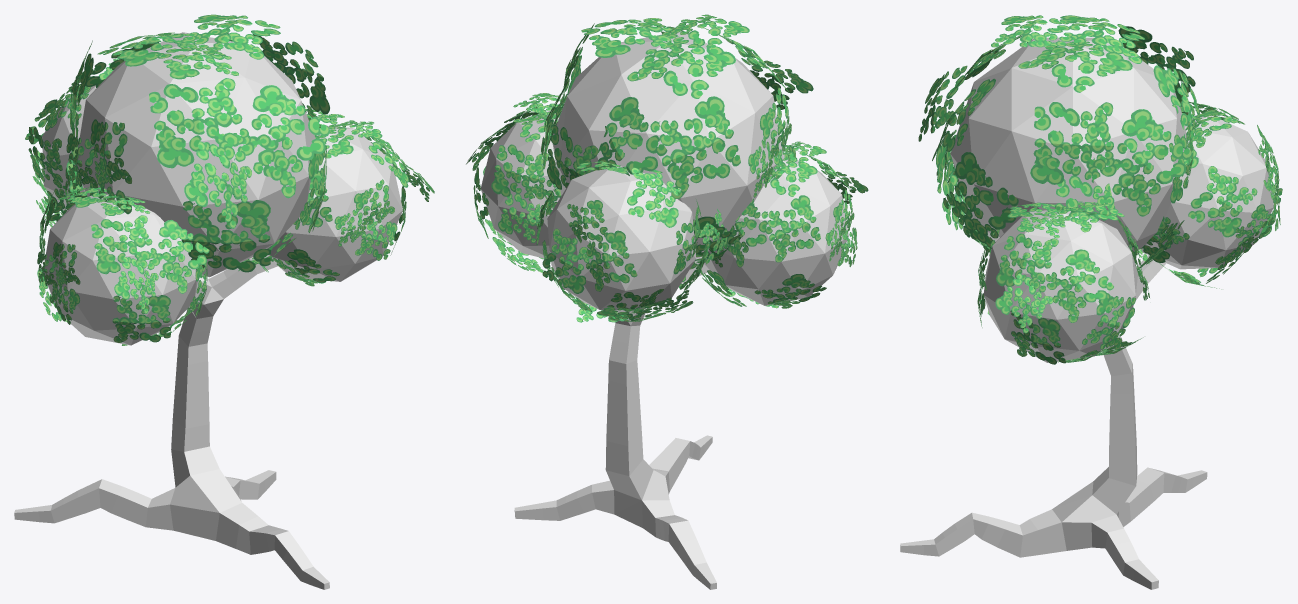
The model's file is tree#1.fbx.
3 renders of one model, left to right at view 1: azimuth 30°, elevation 25°; view 2: azimuth 150°, elevation 25°; view 3: azimuth 270°, elevation 25°, orthographic. The views are drawn at different scales.
Visible parts, largest first — view 1: leaves.050, Icosphere.003, Cube, Icosphere.004, Icosphere.005, Icosphere.006; view 2: leaves.050, Icosphere.003, Cube, Icosphere.006, Icosphere.004, Icosphere.005; view 3: leaves.050, Icosphere.003, Cube, Icosphere.005, Icosphere.006.
Part boxes in pixels (x1=…): leaves.050: x1=25, y1=14, x2=434, y2=345; Icosphere.003: x1=75, y1=32, x2=315, y2=277; Cube: x1=14, y1=256, x2=329, y2=589; Icosphere.004: x1=43, y1=194, x2=197, y2=345; Icosphere.005: x1=267, y1=125, x2=402, y2=281; Icosphere.006: x1=42, y1=85, x2=96, y2=210; leaves.050: x1=466, y1=14, x2=868, y2=322; Icosphere.003: x1=552, y1=31, x2=783, y2=257; Cube: x1=514, y1=257, x2=716, y2=589; Icosphere.006: x1=547, y1=164, x2=696, y2=313; Icosphere.004: x1=704, y1=154, x2=848, y2=305; Icosphere.005: x1=480, y1=110, x2=559, y2=258; leaves.050: x1=918, y1=15, x2=1282, y2=364; Icosphere.003: x1=950, y1=37, x2=1187, y2=251; Cube: x1=900, y1=255, x2=1207, y2=589; Icosphere.005: x1=983, y1=210, x2=1137, y2=362; Icosphere.006: x1=1141, y1=115, x2=1273, y2=269.
Bounding box in the file's own units: 1000 × 1297 × 902.
